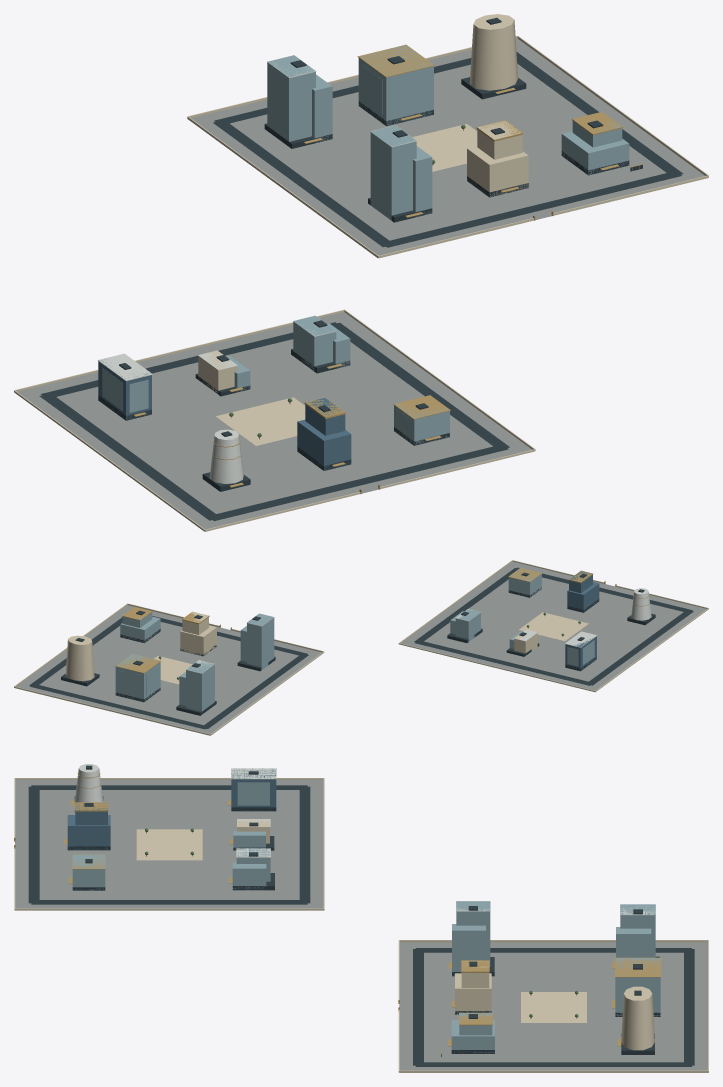
The model's file is GC-TILE-17-24.glb.
The picture shows the model from 3 angles, top to bottom: view 1: azimuth 30°, elevation 25°; view 2: azimuth 150°, elevation 25°; view 3: azimuth 270°, elevation 25°; orthographic projection. The views are drawn at different scales.
Parts seen in each view (by area): view 1: GC-TILE-17-24-paving, GC-TILE-17-24-glass, GC-TILE-17-24-dark, GC-TILE-17-24-ivory, GC-TILE-17-24-gold, GC-TILE-17-24-blue, GC-TILE-17-24-white; view 2: GC-TILE-17-24-paving, GC-TILE-17-24-glass, GC-TILE-17-24-dark, GC-TILE-17-24-ivory, GC-TILE-17-24-blue, GC-TILE-17-24-gold, GC-TILE-17-24-white; view 3: GC-TILE-17-24-paving, GC-TILE-17-24-dark, GC-TILE-17-24-ivory, GC-TILE-17-24-glass, GC-TILE-17-24-gold, GC-TILE-17-24-blue, GC-TILE-17-24-white.
Boxes of the visible parts, bbox=[...] form: GC-TILE-17-24-paving: bbox=[17, 38, 704, 529]; GC-TILE-17-24-glass: bbox=[102, 45, 629, 445]; GC-TILE-17-24-dark: bbox=[39, 17, 683, 521]; GC-TILE-17-24-ivory: bbox=[14, 14, 708, 531]; GC-TILE-17-24-gold: bbox=[134, 44, 643, 493]; GC-TILE-17-24-blue: bbox=[98, 359, 351, 470]; GC-TILE-17-24-white: bbox=[97, 55, 416, 483]; GC-TILE-17-24-paving: bbox=[16, 561, 706, 733]; GC-TILE-17-24-glass: bbox=[115, 568, 594, 712]; GC-TILE-17-24-dark: bbox=[29, 567, 693, 729]; GC-TILE-17-24-ivory: bbox=[14, 560, 708, 735]; GC-TILE-17-24-blue: bbox=[565, 571, 599, 670]; GC-TILE-17-24-gold: bbox=[115, 567, 649, 673]; GC-TILE-17-24-white: bbox=[186, 588, 651, 673]; GC-TILE-17-24-paving: bbox=[15, 779, 707, 1070]; GC-TILE-17-24-dark: bbox=[28, 765, 694, 1066]; GC-TILE-17-24-ivory: bbox=[14, 778, 708, 1072]; GC-TILE-17-24-glass: bbox=[72, 782, 660, 1053]; GC-TILE-17-24-gold: bbox=[14, 773, 661, 1053]; GC-TILE-17-24-blue: bbox=[67, 768, 276, 849]; GC-TILE-17-24-white: bbox=[74, 764, 655, 915].
Bounding box in the file's own units: 759 × 73.77 × 760.
